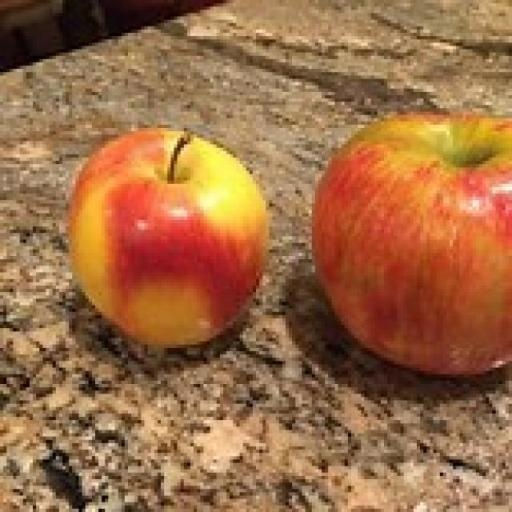fruit: (313, 115, 511, 374), (69, 130, 268, 346)
